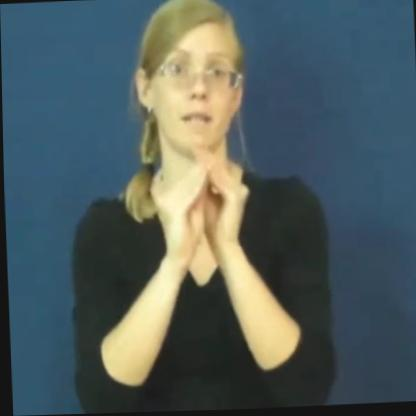Fix: (140, 141, 256, 255)
